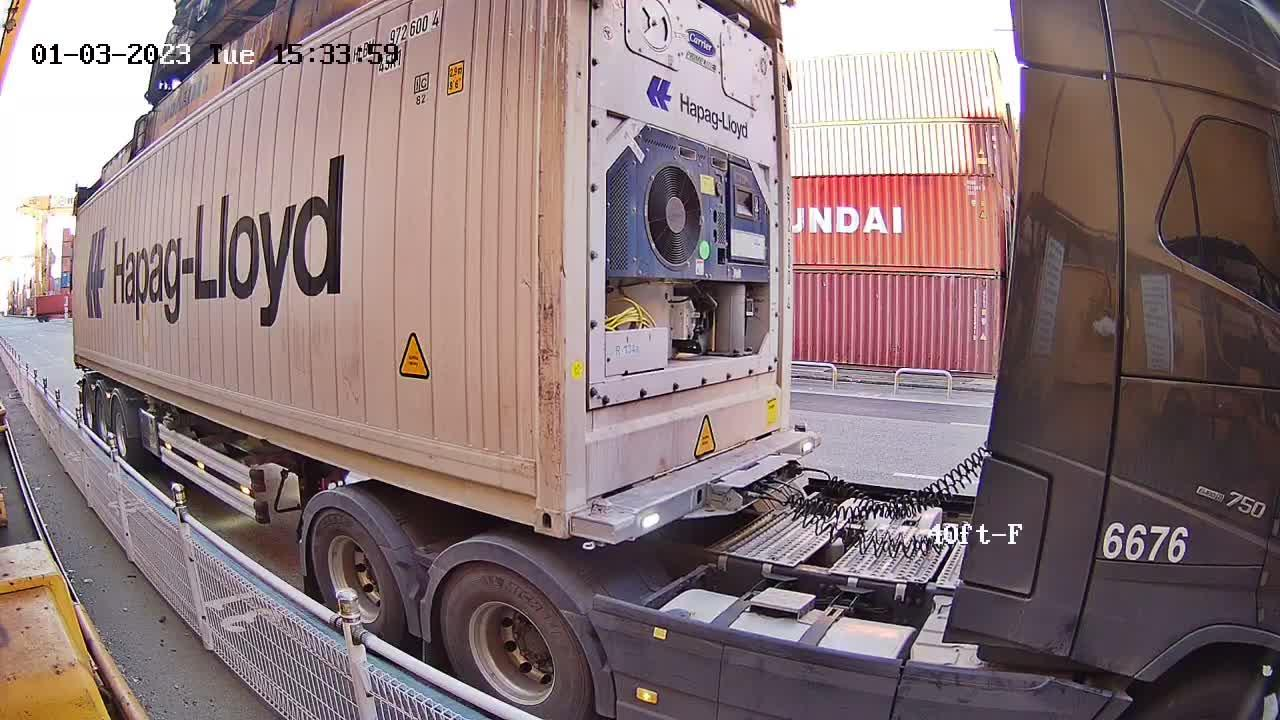Cone: (571, 430, 818, 544)
Hole_L: (505, 465, 567, 538)
Tire: (440, 564, 592, 718), (313, 510, 405, 649)
